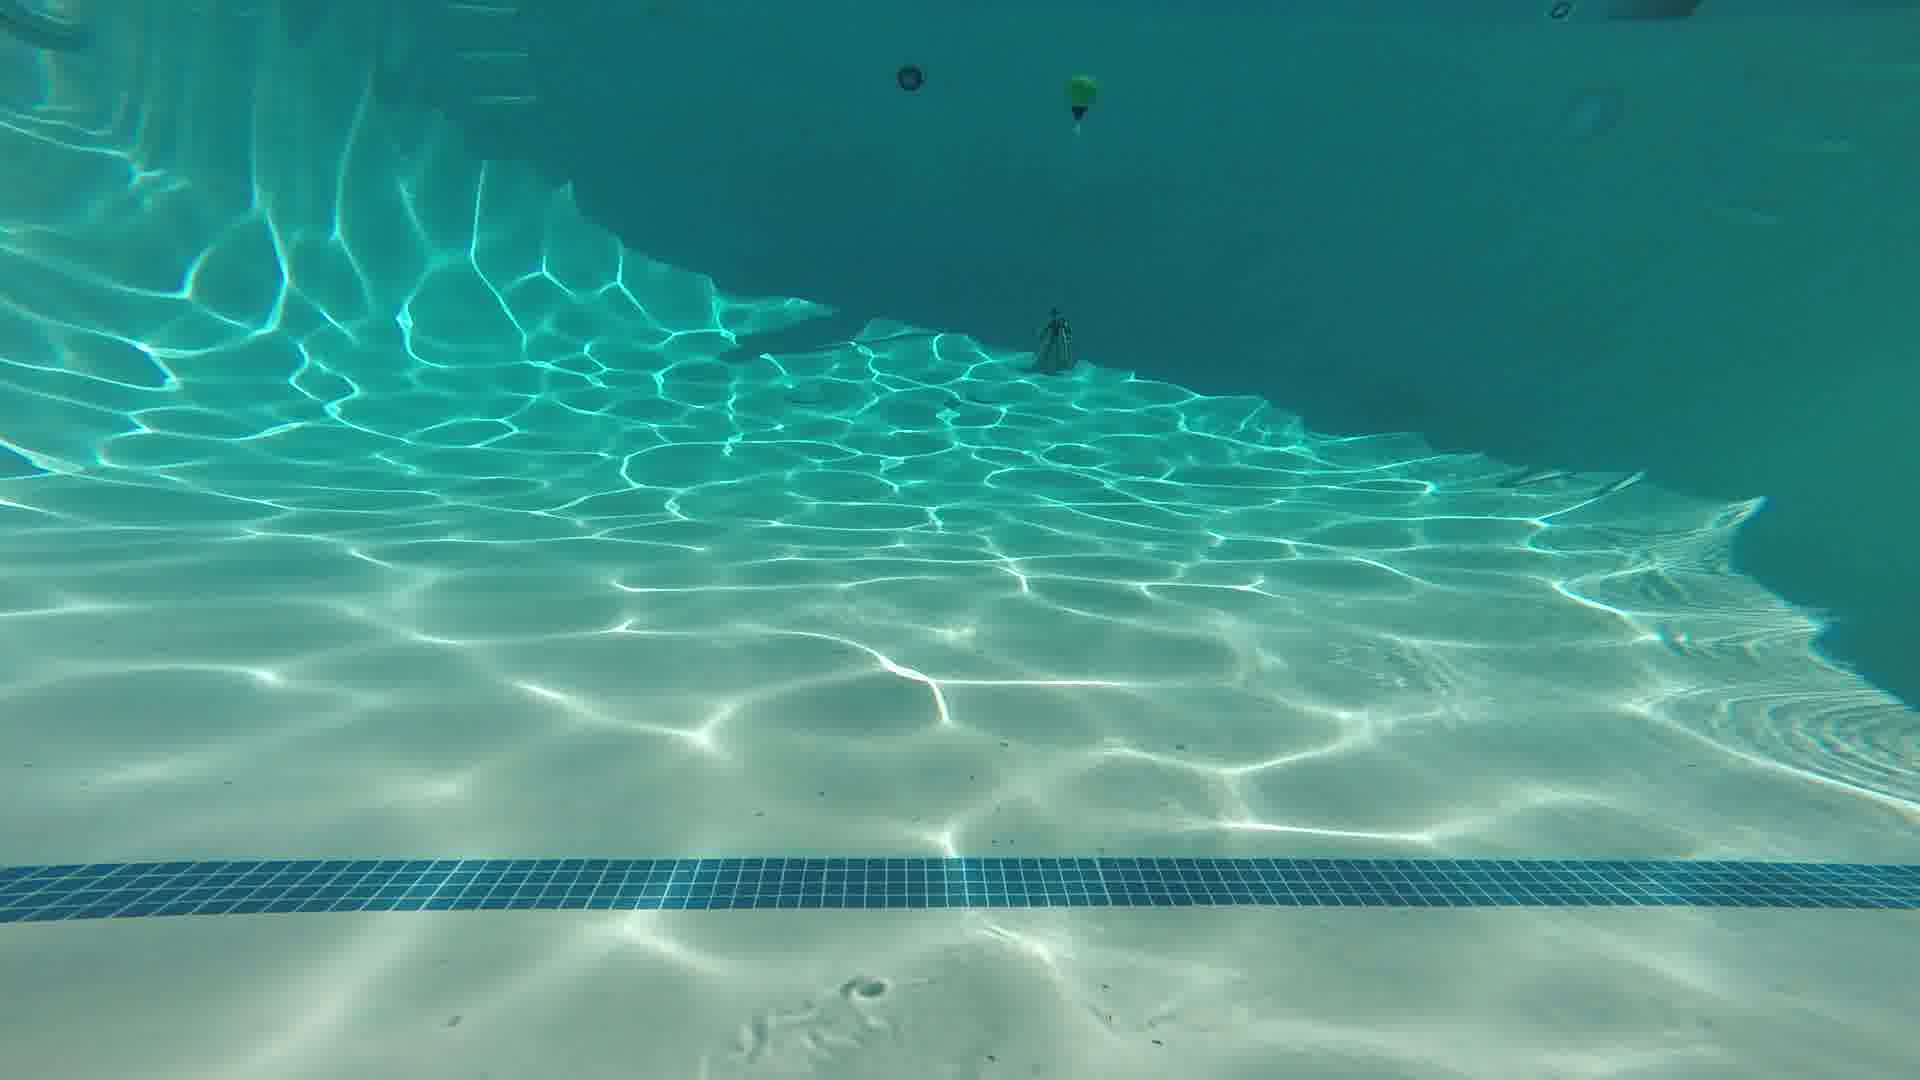yellow buoy: (1068, 70, 1105, 129)
